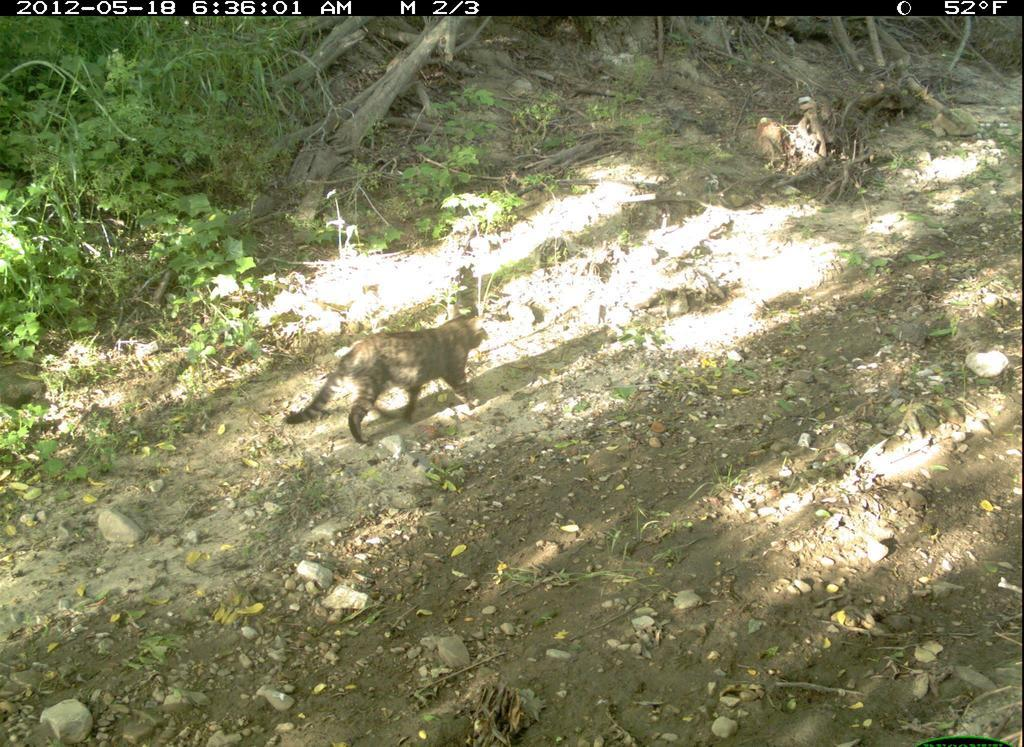cat: (283, 306, 496, 460)
